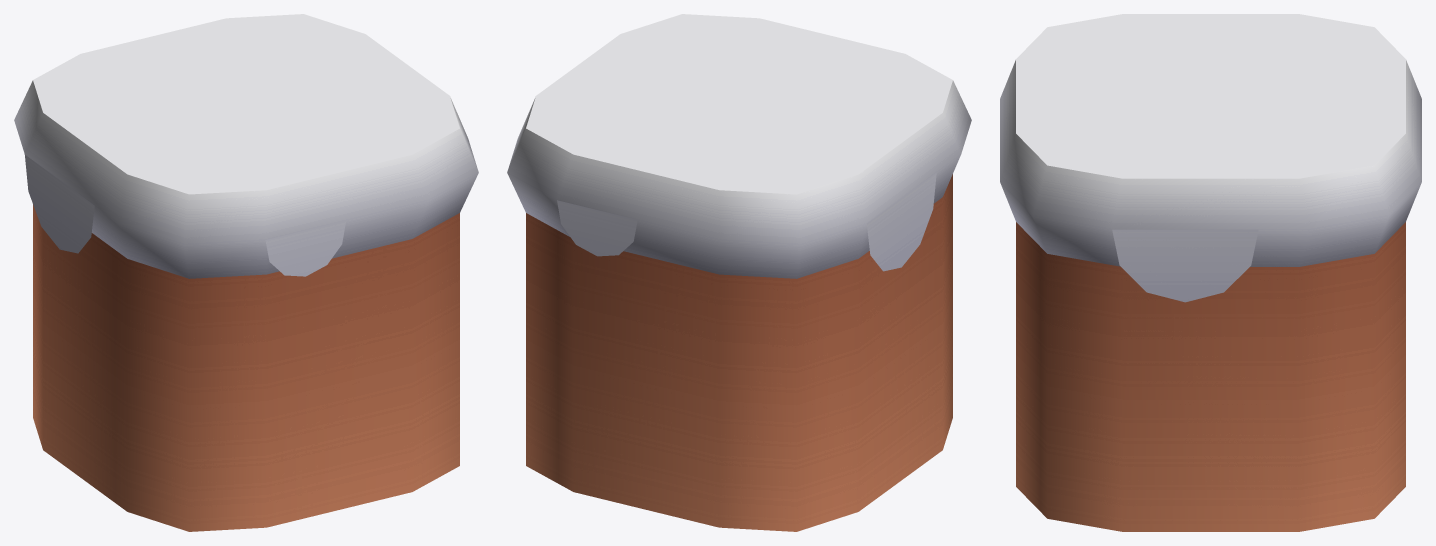
Rendered from block-snow-overhang-corner.glb.
The picture shows the model from 3 angles, left to right: view 1: azimuth 30°, elevation 25°; view 2: azimuth 150°, elevation 25°; view 3: azimuth 270°, elevation 25°; orthographic projection. The views are drawn at different scales.
Visible parts, largest first — view 1: block-snow-overhang-corner; view 2: block-snow-overhang-corner; view 3: block-snow-overhang-corner.
Boxes of the visible parts, bbox=[...] form: block-snow-overhang-corner: bbox=[14, 14, 478, 531]; block-snow-overhang-corner: bbox=[507, 14, 971, 531]; block-snow-overhang-corner: bbox=[1000, 14, 1421, 531].
Size of the model in its own units: 1.08 by 1 by 1.08.
Materials: 1 (1 with a texture image).
